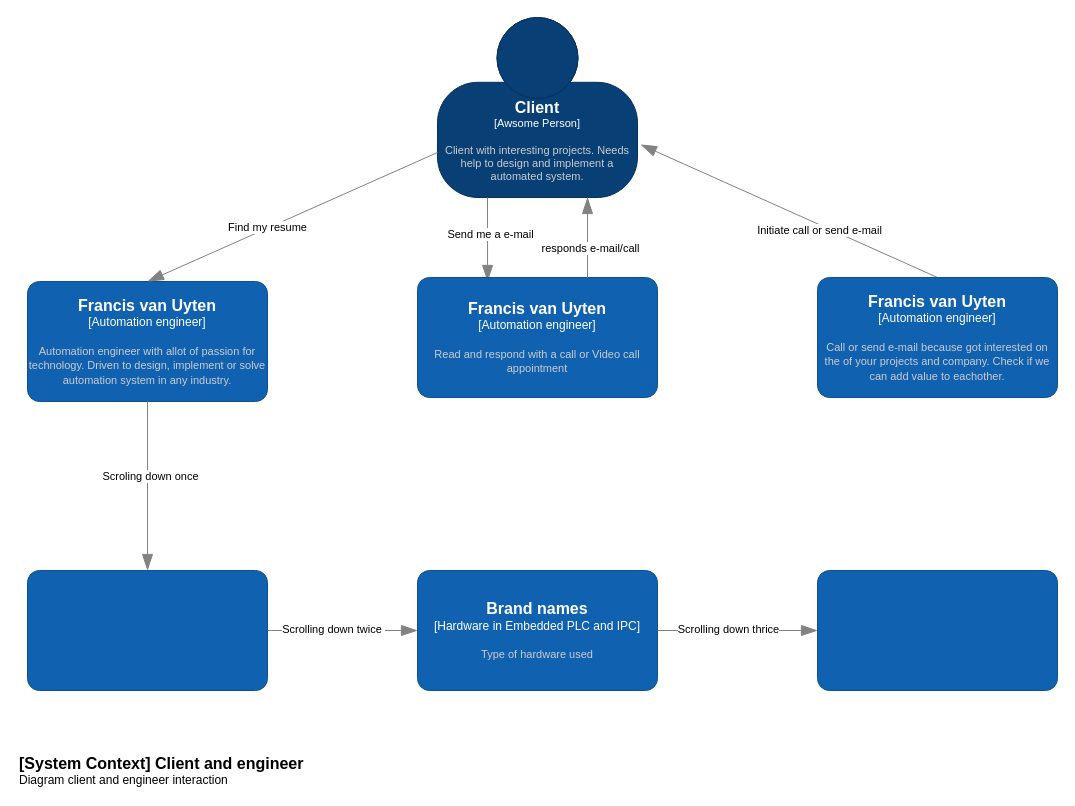
The diagram is 1075 pixels wide and 806 high, and some of its shapes have lost their labels. Here are the shapes that lost their labels. From the top down, the centre of each, then its label:
At point 147,630: "Experience [Software in Embedded PLC and IPC] Working Experience in the industry".
At point 937,630: "Software names [Syntax] Type of software used".
